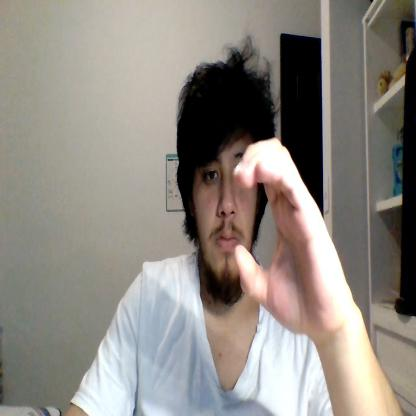C: (233, 137, 342, 335)
